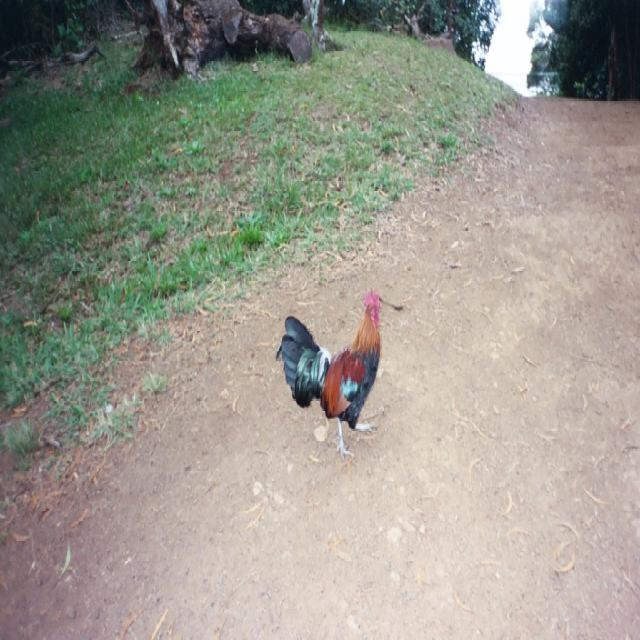Chicken: (280, 278, 388, 446)
